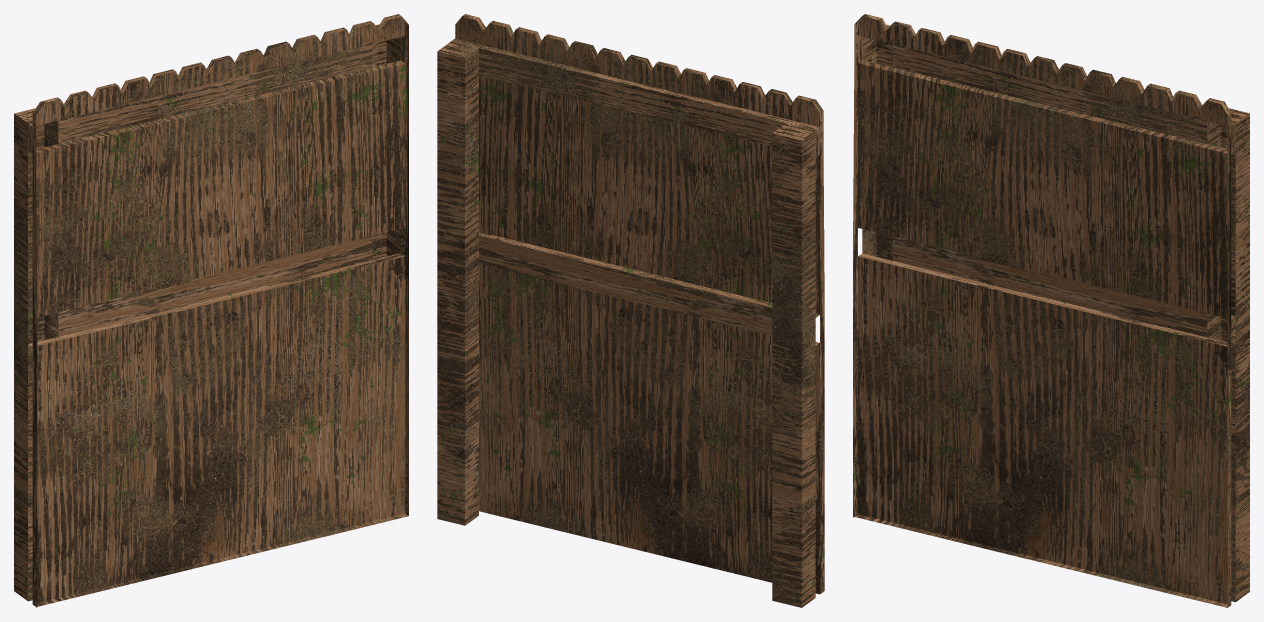
The model's file is m_fenceShort.fbx.
The picture shows the model from 3 angles, left to right: view 1: azimuth 30°, elevation 25°; view 2: azimuth 150°, elevation 25°; view 3: azimuth 330°, elevation 25°; orthographic projection. The views are drawn at different scales.
Parts seen in each view (by area): view 1: m_longFence42; view 2: m_longFence42; view 3: m_longFence42.
Part boxes in pixels (box(x1,y1,x2,y2)): m_longFence42: box(14, 14, 408, 607); m_longFence42: box(437, 14, 824, 607); m_longFence42: box(853, 14, 1249, 607).
Bounding box in the file's own units: 531 × 682 × 57.66.
